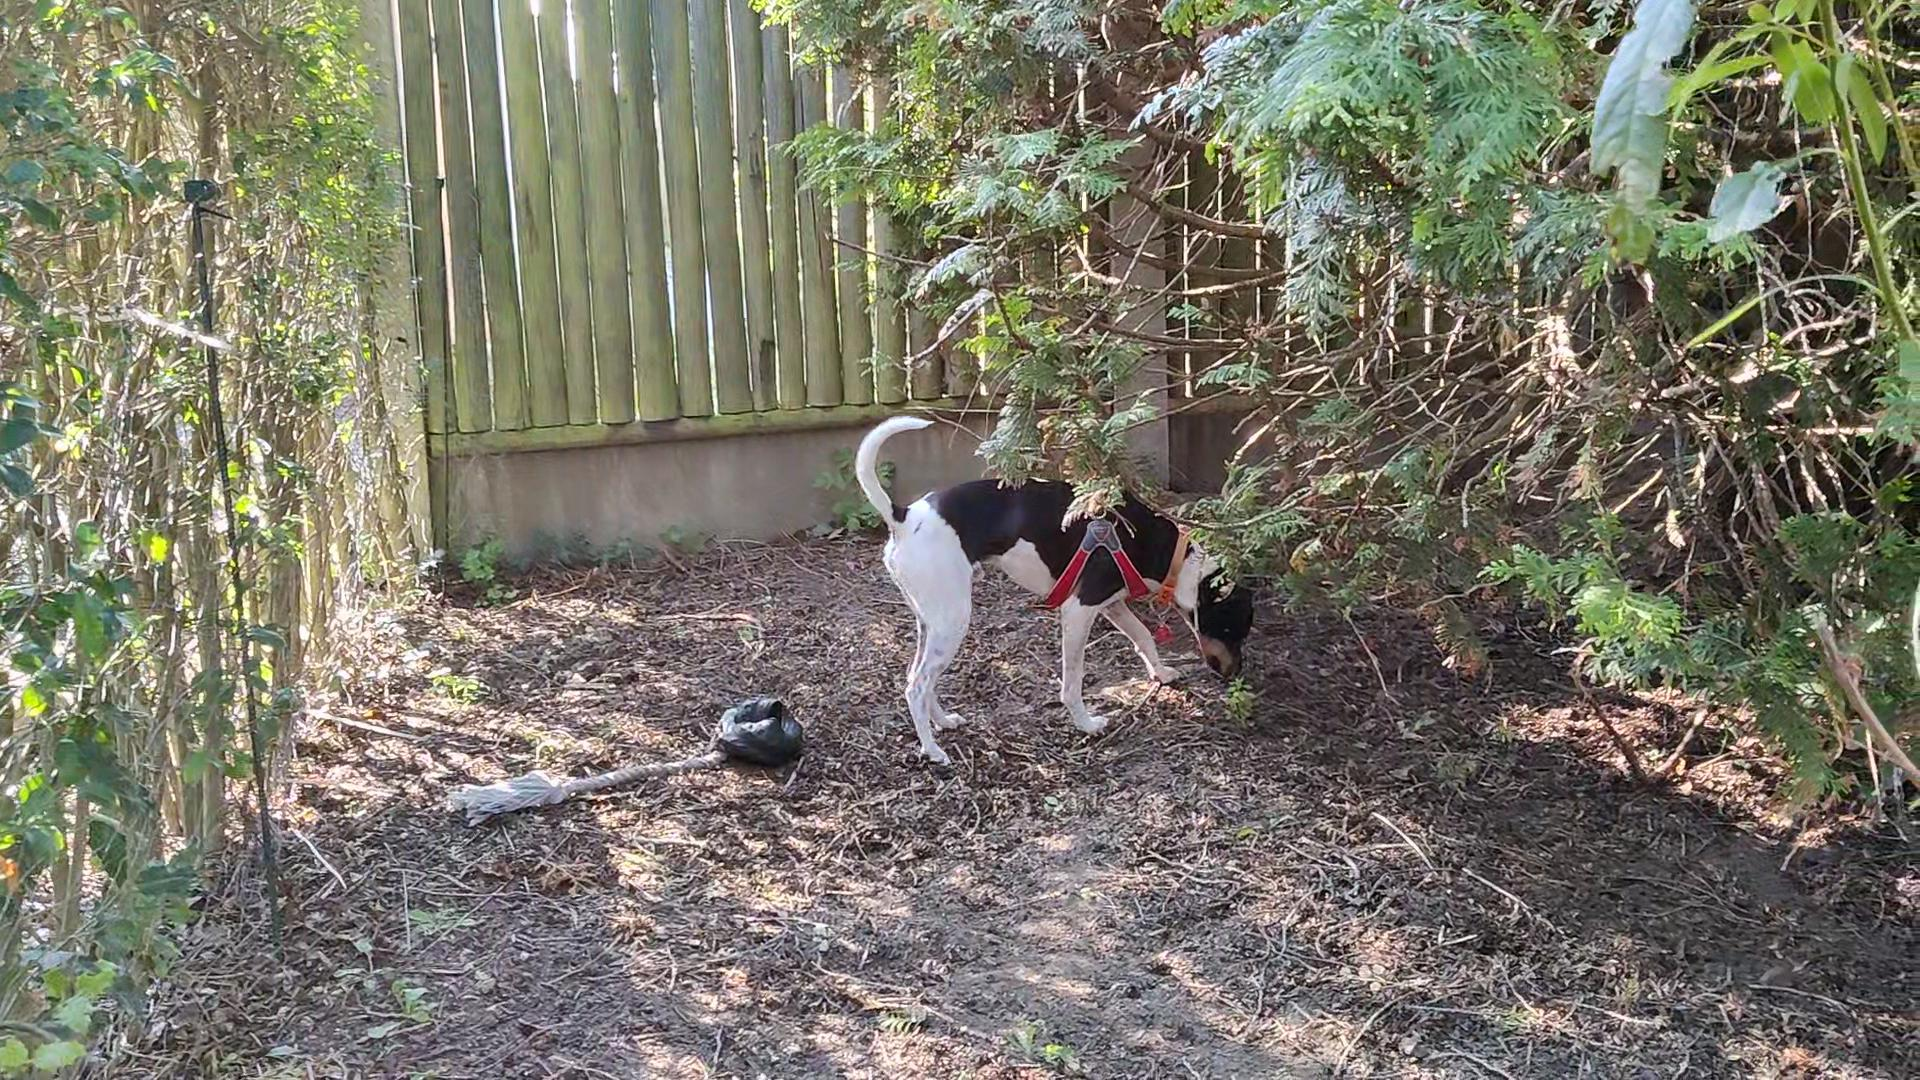Dog: (837, 393, 1279, 778)
